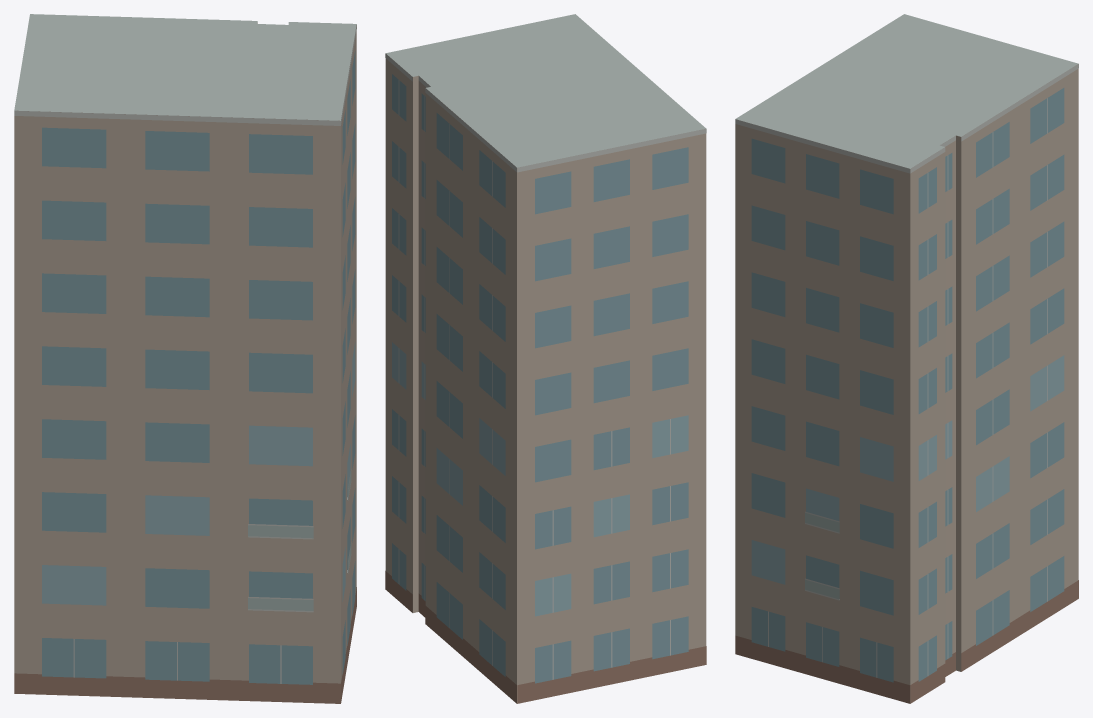
File: survey-upis-32892709.glb
The picture shows the model from 3 angles, left to right: view 1: azimuth 30°, elevation 25°; view 2: azimuth 150°, elevation 25°; view 3: azimuth 270°, elevation 25°; orthographic projection. The views are drawn at different scales.
Visible parts, largest first — view 1: survey-upis-32892709.tmp; view 2: survey-upis-32892709.tmp; view 3: survey-upis-32892709.tmp.
Part boxes in pixels (left/top/right/bottom): survey-upis-32892709.tmp: left=14, top=14, right=356, bottom=703; survey-upis-32892709.tmp: left=385, top=14, right=706, bottom=703; survey-upis-32892709.tmp: left=735, top=14, right=1078, bottom=703.
Size of the model in its own units: 16.95 by 27.3 by 15.89.
